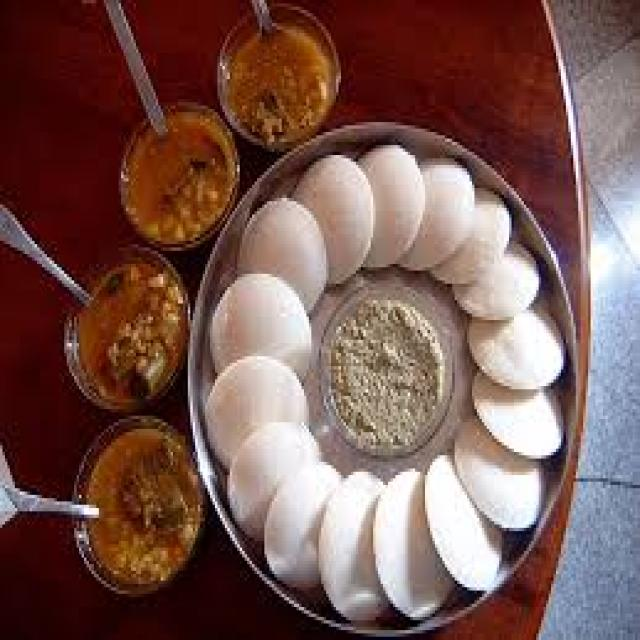IDLI: (469, 307, 561, 452), (373, 472, 450, 617), (205, 356, 306, 465), (227, 422, 319, 541), (208, 274, 309, 373), (294, 155, 371, 284), (425, 455, 499, 587), (452, 416, 539, 528), (319, 472, 385, 617), (237, 201, 326, 307), (267, 462, 339, 584), (358, 145, 423, 264), (400, 162, 472, 267), (452, 251, 536, 317), (450, 188, 507, 257)
